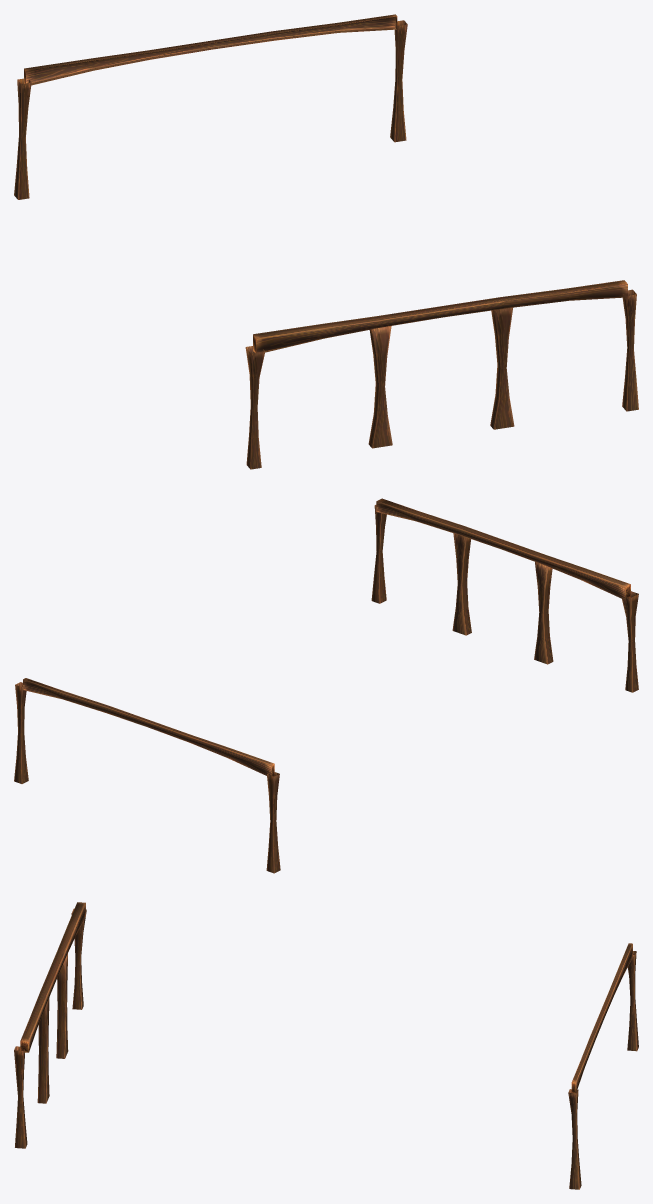
Rendered from HTOWN01_CHICKENCOOPEXTCOLUMS.fbx.
3 views of the same model, one above another, from view 1: azimuth 30°, elevation 25°; view 2: azimuth 150°, elevation 25°; view 3: azimuth 270°, elevation 25° (orthographic). The views are drawn at different scales.
Parts seen in each view (by area): view 1: HTOWN01_CHICKENCOOPEXTCOLUMS; view 2: HTOWN01_CHICKENCOOPEXTCOLUMS; view 3: HTOWN01_CHICKENCOOPEXTCOLUMS.
Boxes of the visible parts, x1,y1,x2,y2 form: HTOWN01_CHICKENCOOPEXTCOLUMS: (14, 14, 638, 469); HTOWN01_CHICKENCOOPEXTCOLUMS: (14, 498, 638, 873); HTOWN01_CHICKENCOOPEXTCOLUMS: (14, 902, 638, 1189).
Size of the model in its own units: 80976 by 21670 by 115669.
Materials: 1 (1 with a texture image).
